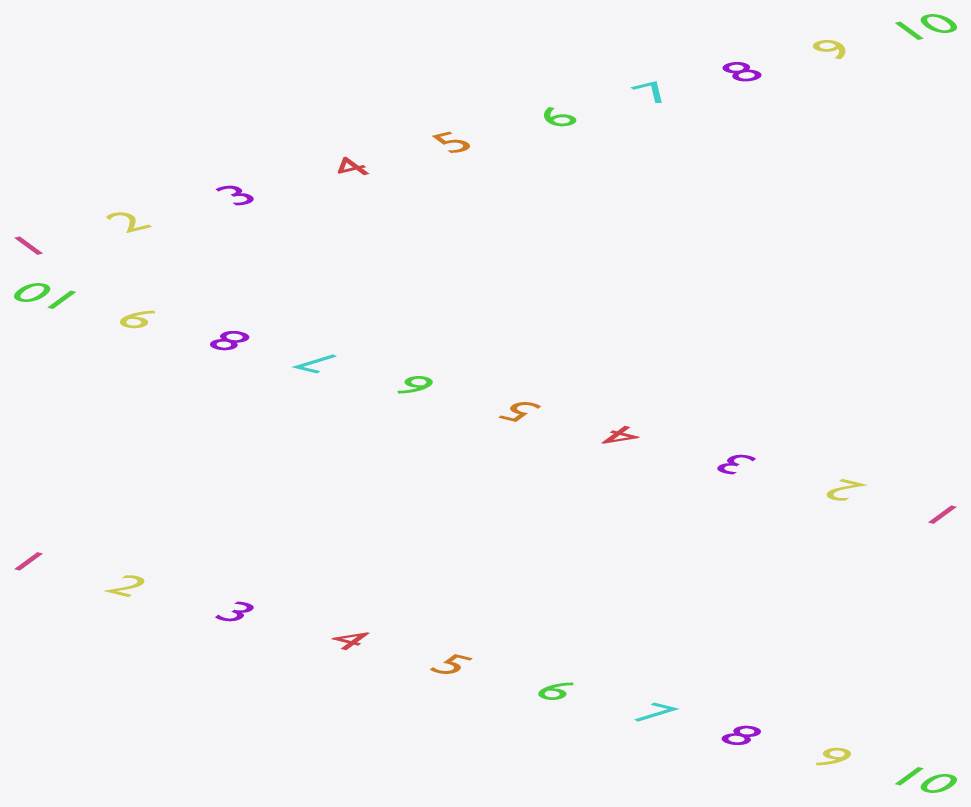
3 views of the same model, one above another, from view 1: azimuth 30°, elevation 25°; view 2: azimuth 150°, elevation 25°; view 3: azimuth 330°, elevation 25° (orthographic).
Bounding box in the file's own units: 3632 × 5.58e-05 × 163.
